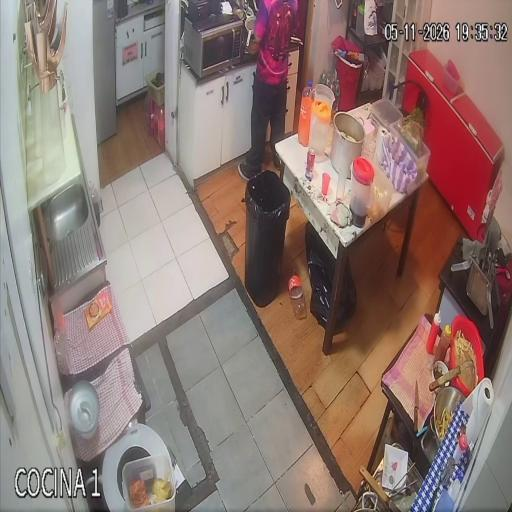Basurero: (245, 171, 290, 307)
Cuchillo1: (414, 380, 419, 434)
Envase Llajua: (435, 326, 451, 362)
Envase salsa: (426, 313, 441, 354)
Jarra1: (350, 157, 374, 228)
Jarra2: (308, 99, 331, 162)
Jarra3: (314, 83, 334, 109)
Microondas: (183, 18, 242, 76)
Persona1: (238, 0, 298, 180)
Tapa de olla: (68, 381, 99, 439)
Taper: (122, 452, 176, 512)
Taper2: (371, 99, 401, 130)
Taper3: (389, 118, 430, 181)
Taper4: (368, 163, 395, 221)
Vaso1: (322, 173, 330, 195)
botella: (298, 81, 313, 145)
olla1: (330, 112, 365, 179)
